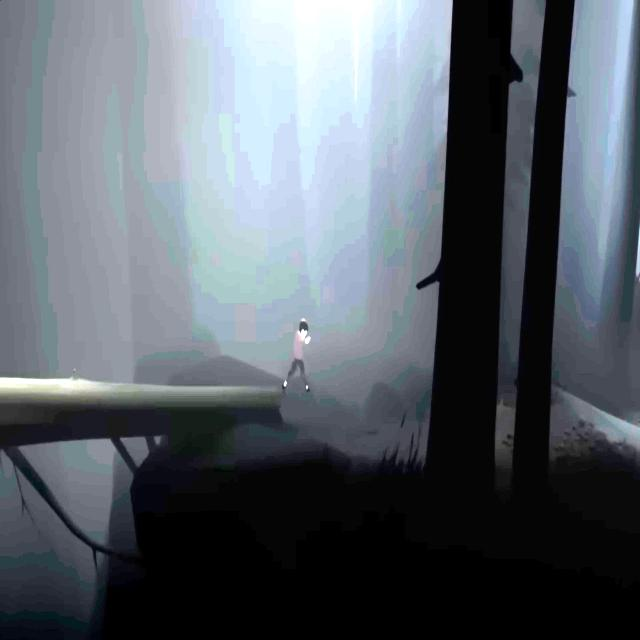boy: (282, 318, 311, 393)
